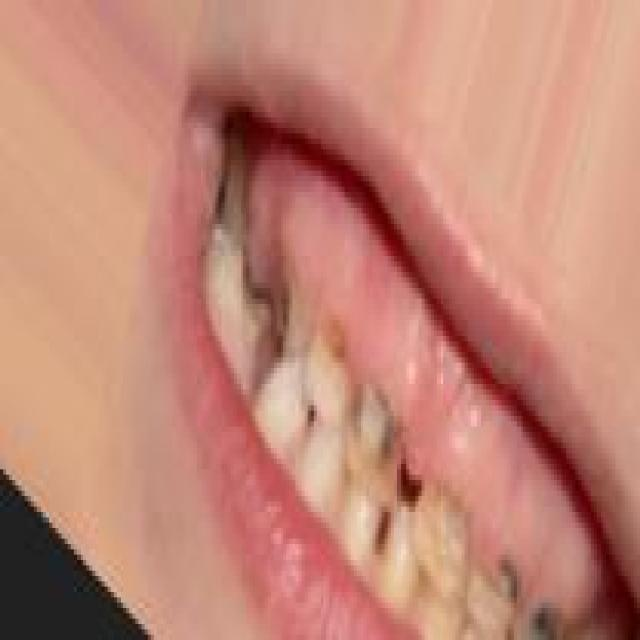caries: (343, 372, 404, 510), (409, 476, 466, 597), (468, 530, 519, 640), (309, 300, 354, 384), (517, 581, 557, 640)
